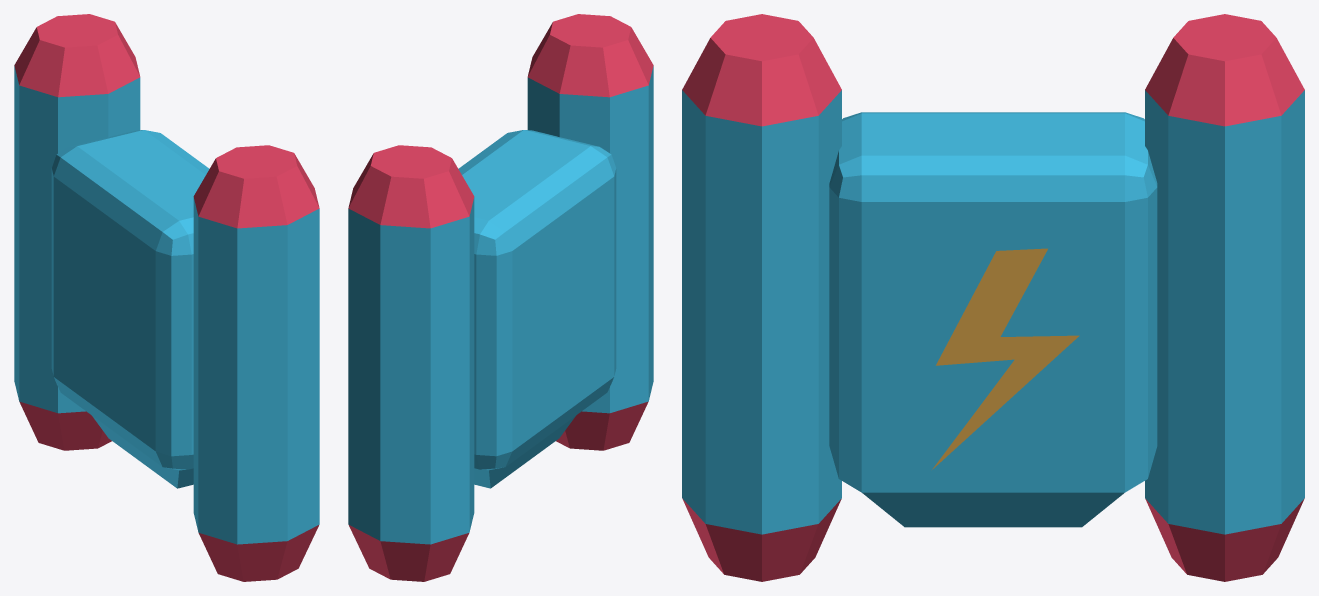
The model's file is JatPackFix2.fbx.
3 renders of one model, left to right at view 1: azimuth 30°, elevation 25°; view 2: azimuth 150°, elevation 25°; view 3: azimuth 270°, elevation 25°, orthographic. The views are drawn at different scales.
Visible parts, largest first — view 1: Cube; view 2: Cube; view 3: Cube.
Boxes of the visible parts, x1=… form: Cube: x1=14, y1=14, x2=319, y2=581; Cube: x1=348, y1=14, x2=653, y2=581; Cube: x1=682, y1=14, x2=1304, y2=581.
Size of the model in its own units: 7.25 by 23.15 by 25.13.
